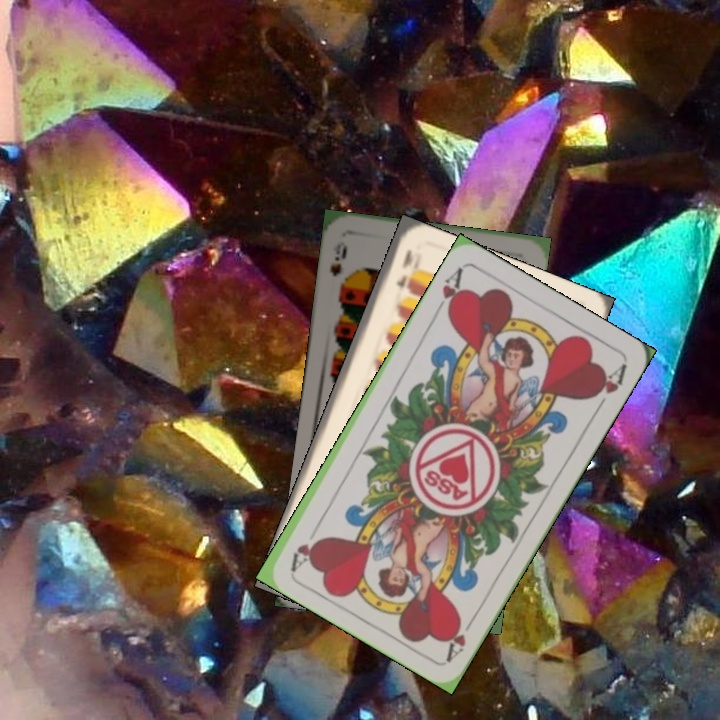E10: (392, 245, 416, 292)
HA: (430, 263, 466, 320), (442, 609, 480, 663)
S9: (326, 237, 351, 295)
